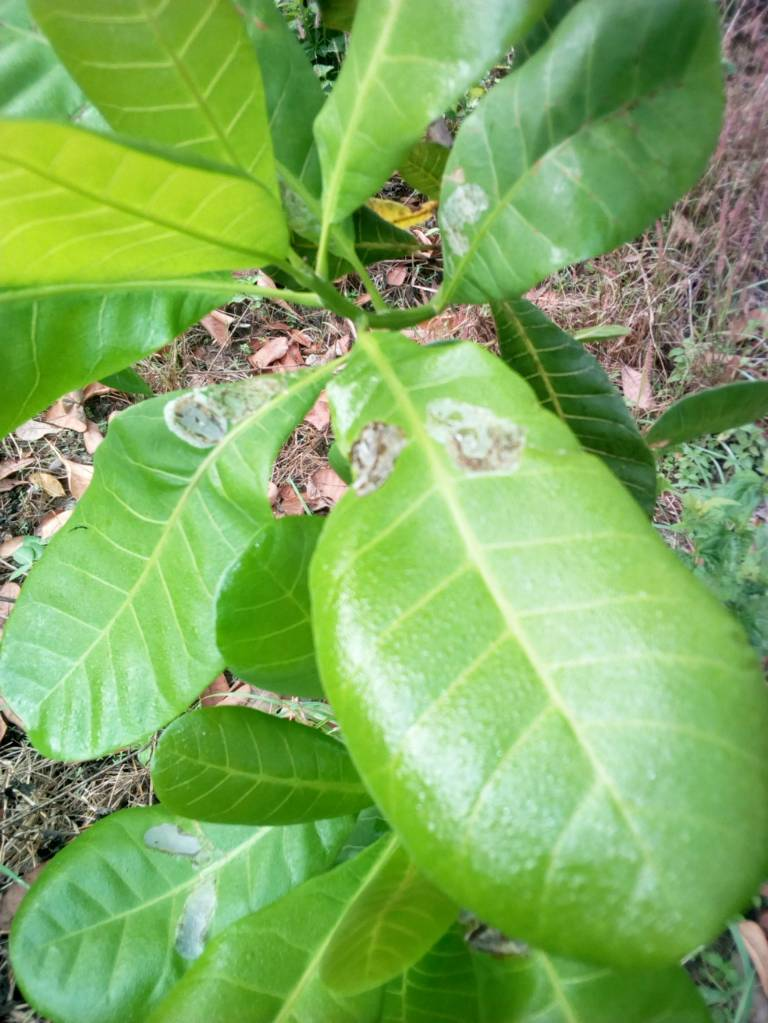Dysdercus wolkerii: (296, 311, 768, 978)
